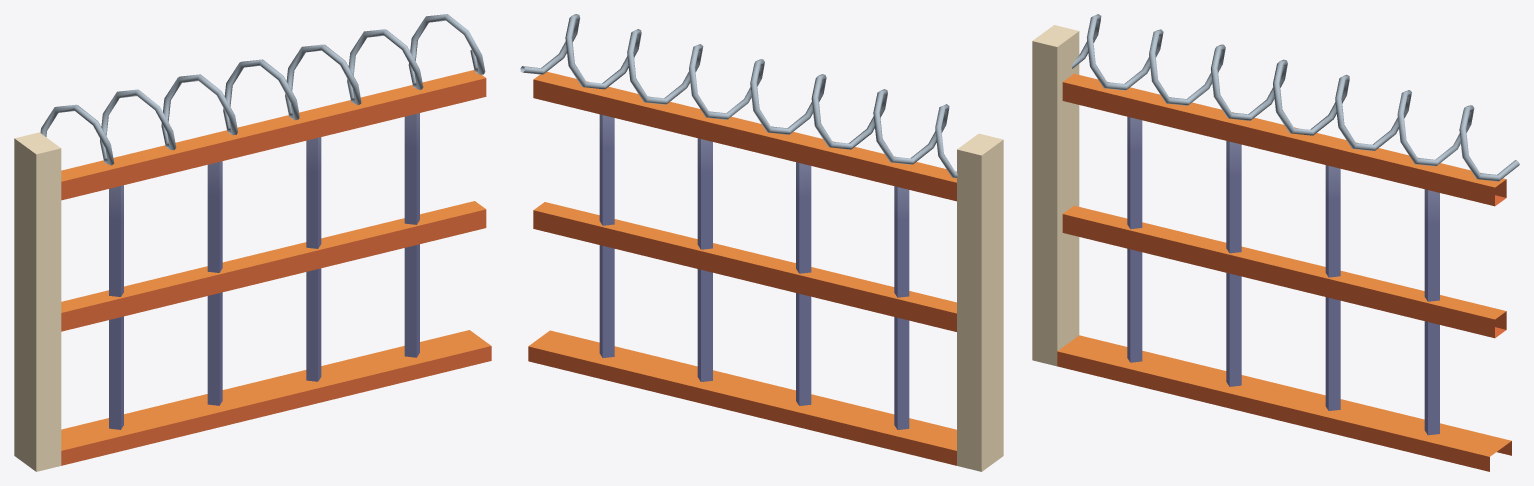
Rendered from PG_wall_cell.fbx.
3 renders of one model, left to right at view 1: azimuth 30°, elevation 25°; view 2: azimuth 150°, elevation 25°; view 3: azimuth 330°, elevation 25°, orthographic.
Visible parts, largest first — view 1: PG_wall_cell; view 2: PG_wall_cell; view 3: PG_wall_cell.
Boxes of the visible parts, x1,y1,x2,y2 form: PG_wall_cell: (14,14,491,471); PG_wall_cell: (520,14,1003,471); PG_wall_cell: (1032,14,1519,471).
Bounding box in the file's own units: 3.05 × 2.19 × 0.4199.
